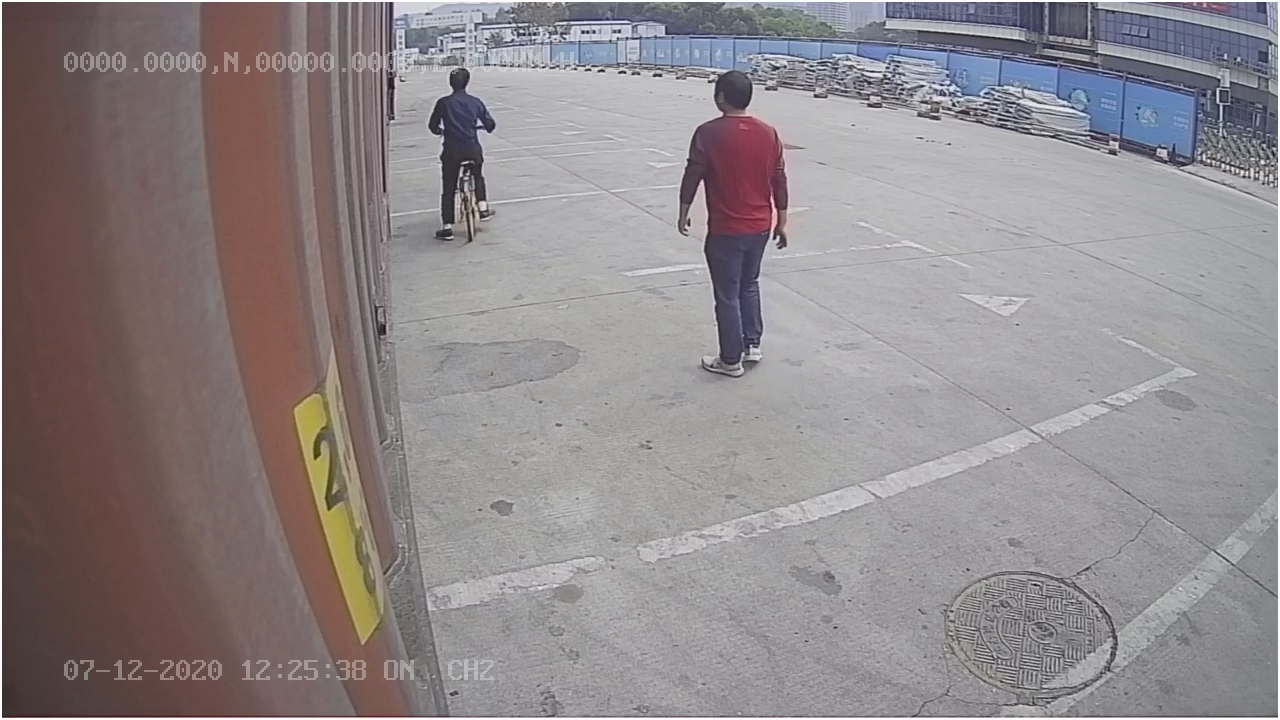person: (668, 62, 796, 378)
